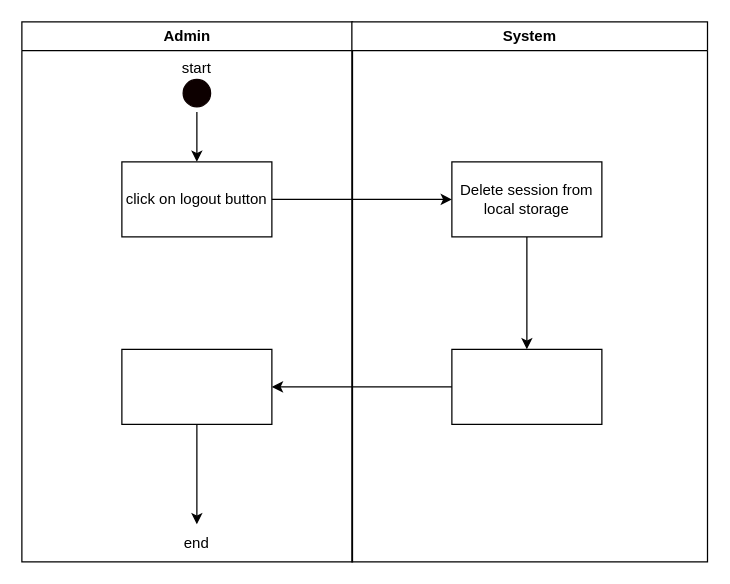
This 730x584 diagram has some shape labels left out. The shapes that lost their labels are listed below. From the top down, each one's centre as x and y in pixels, then its label:
point (196, 386): See a anonymous user Home Page
point (526, 386): Redirect to Home page
